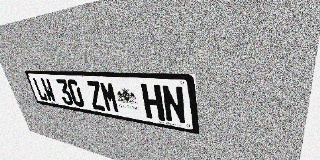0: (66, 79, 85, 108)
3: (56, 79, 74, 106)
H: (141, 84, 165, 121)
L: (32, 77, 48, 101)
M: (99, 81, 120, 113)
N: (161, 85, 187, 125)
W: (40, 78, 57, 103)
Z: (85, 80, 106, 111)
